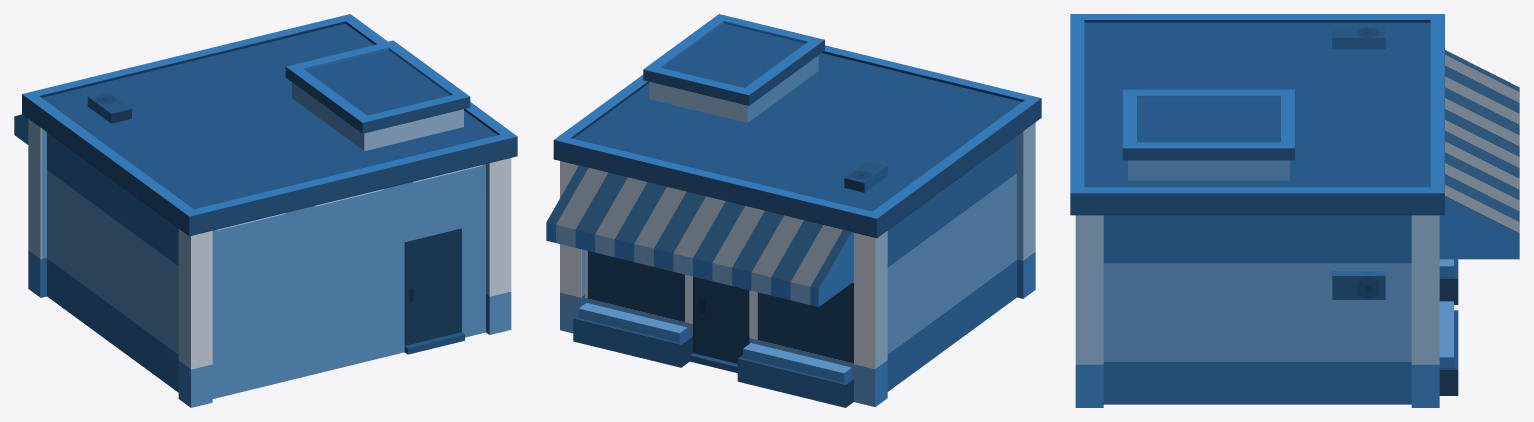
The model's file is ShopBlue_Base.fbx.
3 renders of one model, left to right at view 1: azimuth 30°, elevation 25°; view 2: azimuth 150°, elevation 25°; view 3: azimuth 270°, elevation 25°, orthographic. The views are drawn at different scales.
Visible parts, largest first — view 1: ShopBlue_Base; view 2: ShopBlue_Base; view 3: ShopBlue_Base.
Boxes of the visible parts, x1,y1,x2,y2 form: ShopBlue_Base: (14, 14, 517, 407); ShopBlue_Base: (546, 14, 1041, 407); ShopBlue_Base: (1070, 14, 1519, 407).
Size of the model in its own units: 582 by 377 by 616.
Materials: 1 (1 with a texture image).
